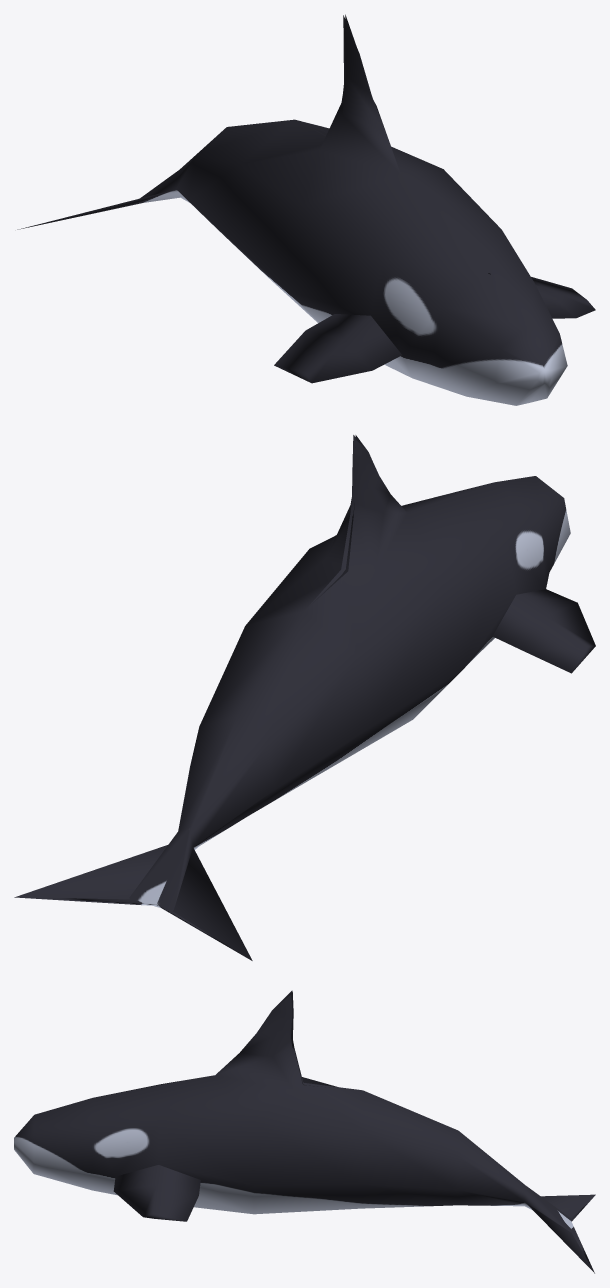
The model's file is Orkaatje.fbx.
3 renders of one model, top to bottom at view 1: azimuth 30°, elevation 25°; view 2: azimuth 150°, elevation 25°; view 3: azimuth 270°, elevation 25°, orthographic. The views are drawn at different scales.
Visible parts, largest first — view 1: pCylinder4; view 2: pCylinder4; view 3: pCylinder4.
Part boxes in pixels (box(x1,y1,x2,y2)): pCylinder4: box(17, 14, 595, 405); pCylinder4: box(14, 435, 595, 960); pCylinder4: box(14, 990, 595, 1273).
Size of the model in its own units: 12.78 by 14.25 by 30.93.
Materials: 1 (1 with a texture image).
